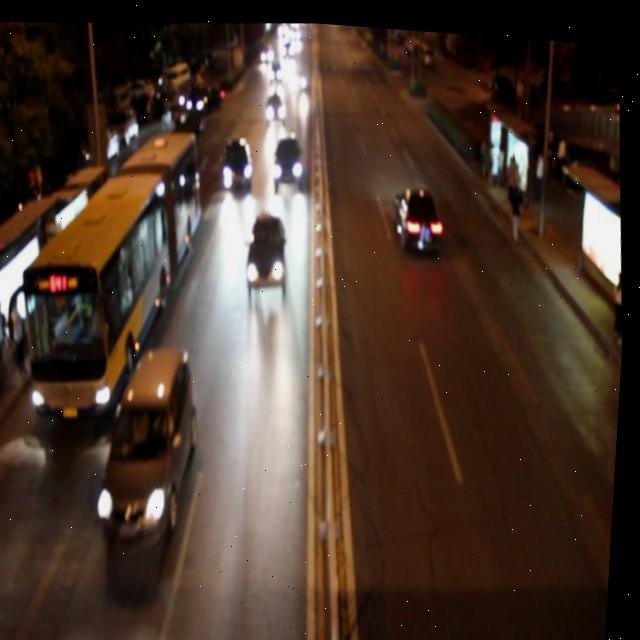car: (243, 206, 293, 290), (393, 175, 447, 245), (219, 129, 258, 189), (270, 128, 308, 188), (263, 85, 289, 122)
truck: (94, 339, 212, 552)
van: (6, 115, 212, 425)
